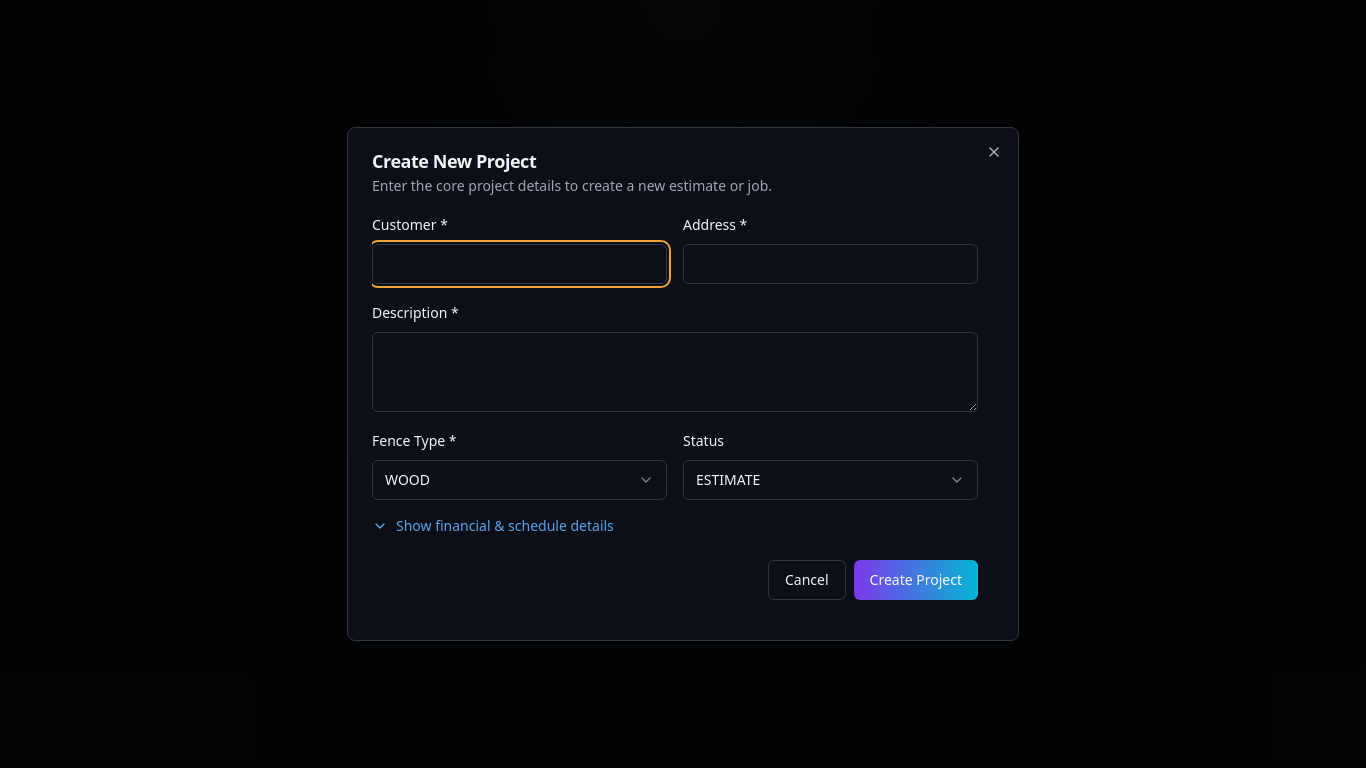
Test: Task 5 integrations › no longer exposes the legacy followUpDate input in the create project dialog
Step 1. Click the button "Show financial & schedule details" → [493, 526], box [372,516,614,536]
(page scrolled)
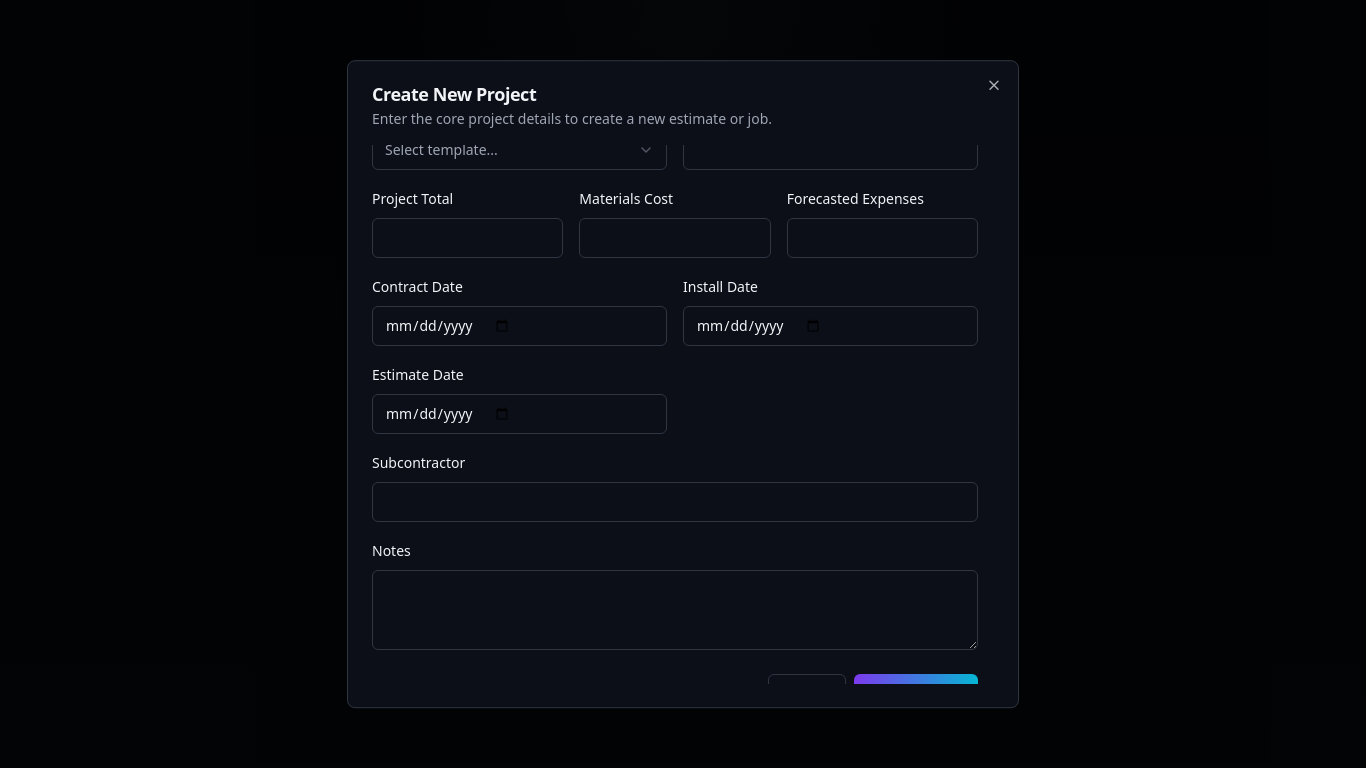
Check: the date field with id "estimateDate" is shown, box [372,394,667,434]
